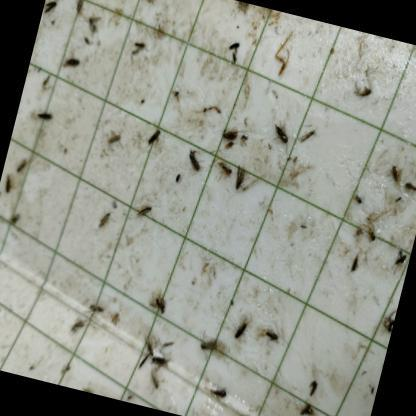prays_oleae: (386, 242, 413, 290), (189, 328, 225, 360), (133, 332, 159, 372), (294, 126, 323, 156), (125, 34, 147, 72), (230, 165, 250, 201), (144, 124, 166, 155), (382, 156, 402, 189), (101, 124, 124, 152), (270, 121, 292, 150), (230, 315, 249, 347), (345, 246, 363, 278), (148, 291, 169, 317), (183, 148, 203, 175), (380, 303, 398, 333), (142, 372, 166, 394), (216, 157, 237, 182), (398, 175, 416, 204), (302, 378, 322, 404), (209, 384, 230, 408), (82, 10, 100, 38), (292, 397, 318, 416), (40, 0, 62, 22), (86, 299, 107, 322), (134, 200, 154, 223), (221, 124, 241, 146), (363, 224, 381, 248), (0, 171, 17, 196), (262, 322, 279, 346), (96, 210, 112, 234), (63, 50, 84, 68), (13, 156, 30, 178), (36, 108, 56, 126), (150, 351, 167, 370), (225, 36, 241, 56), (71, 0, 87, 19)
